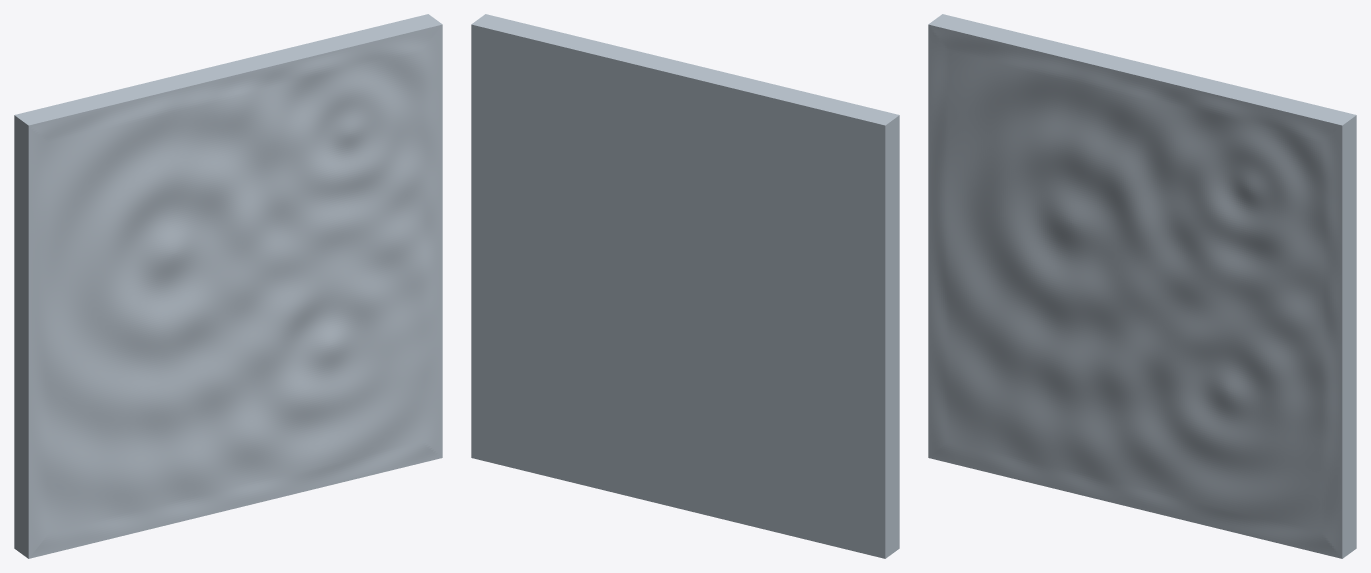
Rendered from ripple_glass.obj.
3 renders of one model, left to right at view 1: azimuth 30°, elevation 25°; view 2: azimuth 150°, elevation 25°; view 3: azimuth 330°, elevation 25°, orthographic.
Size of the model in its own units: 2 by 2 by 0.1303.
